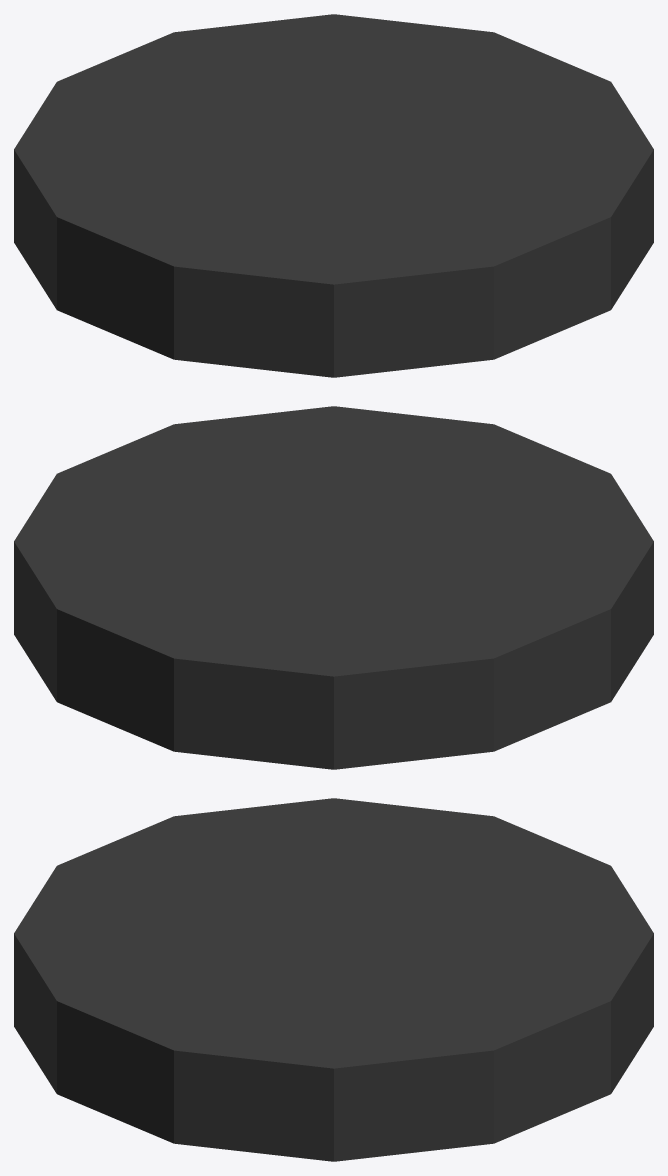
Rendered from ELT0110051.fbx.
3 renders of one model, top to bottom at view 1: azimuth 30°, elevation 25°; view 2: azimuth 150°, elevation 25°; view 3: azimuth 270°, elevation 25°, orthographic.
Visible parts, largest first — view 1: smELT0110051; view 2: smELT0110051; view 3: smELT0110051.
Part boxes in pixels (box(x1,y1,x2,y2)): smELT0110051: box(14, 14, 653, 377); smELT0110051: box(14, 406, 653, 769); smELT0110051: box(14, 798, 653, 1161).
Bounding box in the file's own units: 31.52 × 5.07 × 31.52.
Materials: 1 (1 with a texture image).
